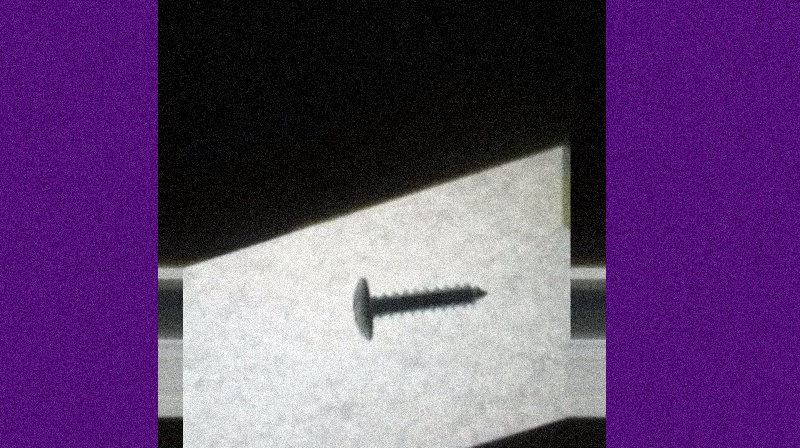S003: (350, 274, 491, 345)
